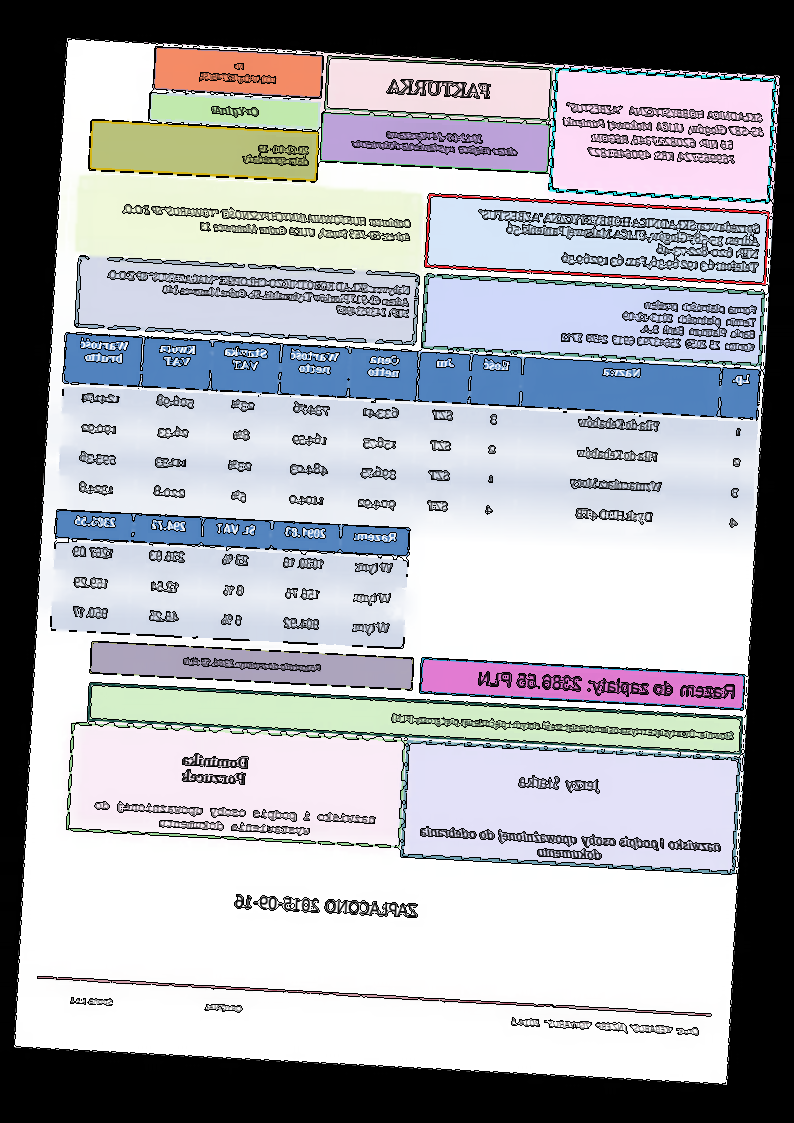Table: (55, 330, 762, 543), (49, 506, 412, 651)
TextBox: (472, 204, 764, 278), (103, 265, 413, 321), (558, 98, 769, 169), (416, 823, 723, 868), (120, 201, 414, 246), (557, 291, 759, 356), (90, 796, 379, 841), (388, 710, 736, 745), (477, 667, 738, 702), (349, 124, 522, 160), (230, 890, 421, 920), (507, 1013, 701, 1039), (66, 992, 246, 1016), (180, 653, 324, 676), (176, 749, 253, 790), (386, 75, 494, 102), (197, 57, 282, 88), (515, 770, 606, 797), (241, 138, 312, 170), (209, 100, 262, 120)
